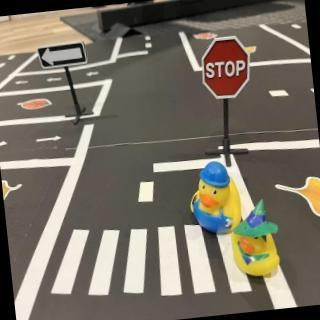duck_regular: (229, 199, 285, 283)
duck_specialty: (187, 160, 244, 239)
road_crosswalk: (43, 208, 255, 312)
road_oneway: (33, 132, 63, 146), (86, 68, 103, 79), (46, 76, 65, 85), (16, 78, 31, 87), (1, 137, 10, 149)
sign_oneway_left: (36, 42, 89, 71)
sign_stop: (199, 35, 255, 104)
